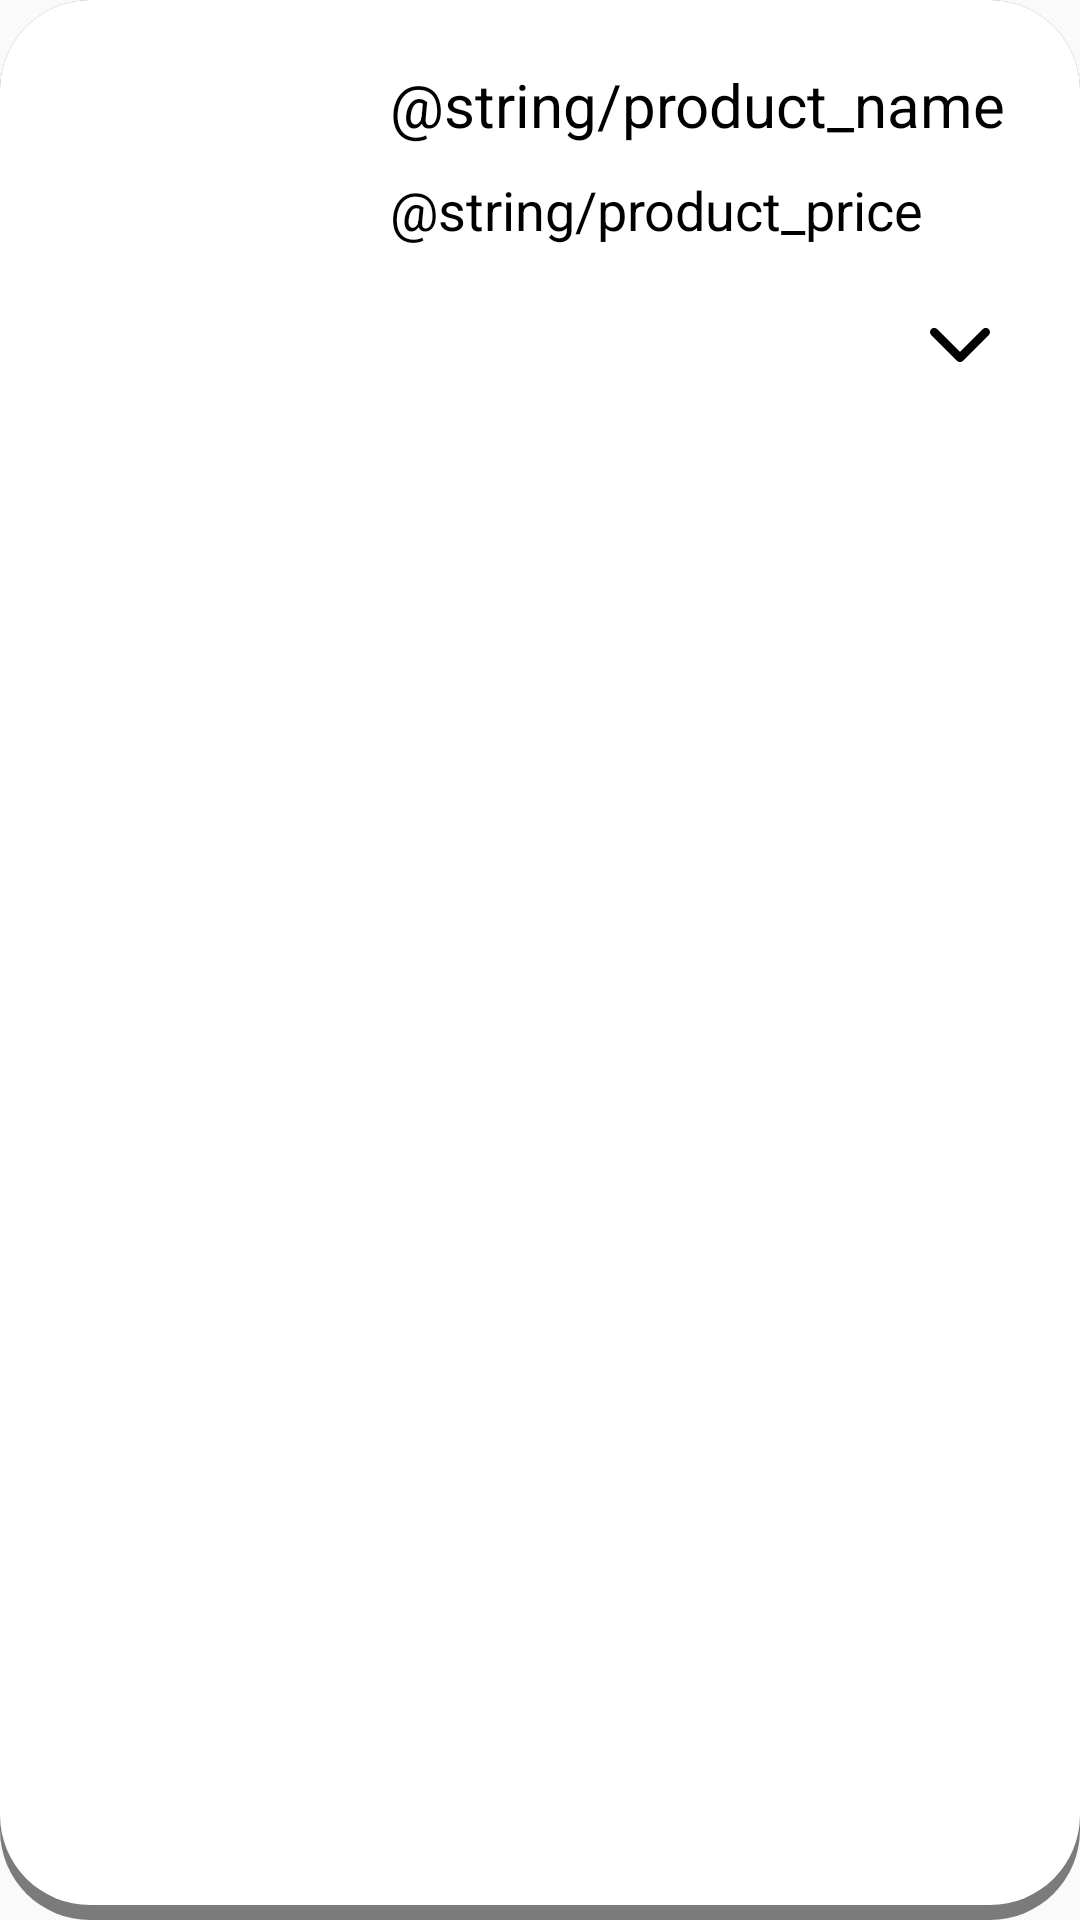

Named icons in this screenshot (1080*1920) and their bounding boxes, (x1, y1, x2, y2):
down arrow: (930, 328, 990, 362)
